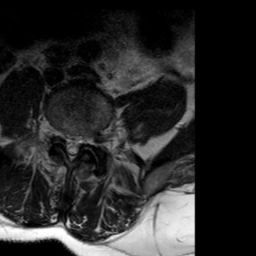CCS_normal: (69, 126, 75, 168)
LFS_normal: (82, 124, 91, 153)
LLS_stenosis: (75, 125, 82, 156)
RFS_stenosis: (54, 117, 62, 148)
RLS_stenosis: (62, 124, 69, 154)
